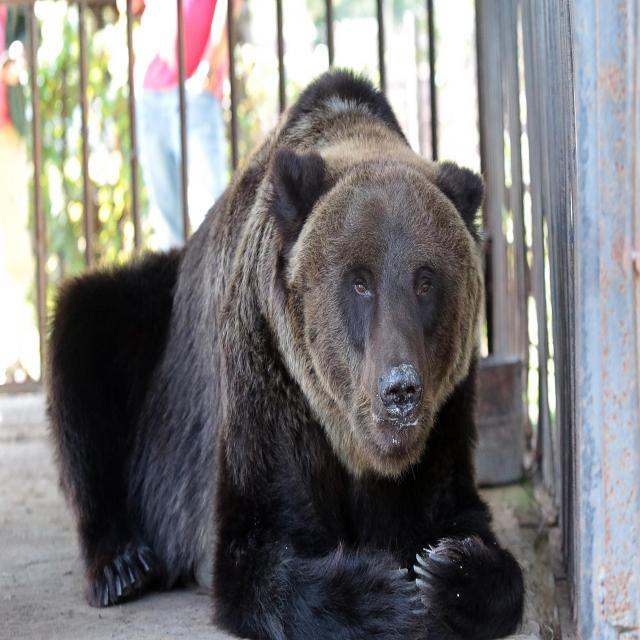Bear: (43, 69, 527, 640)
